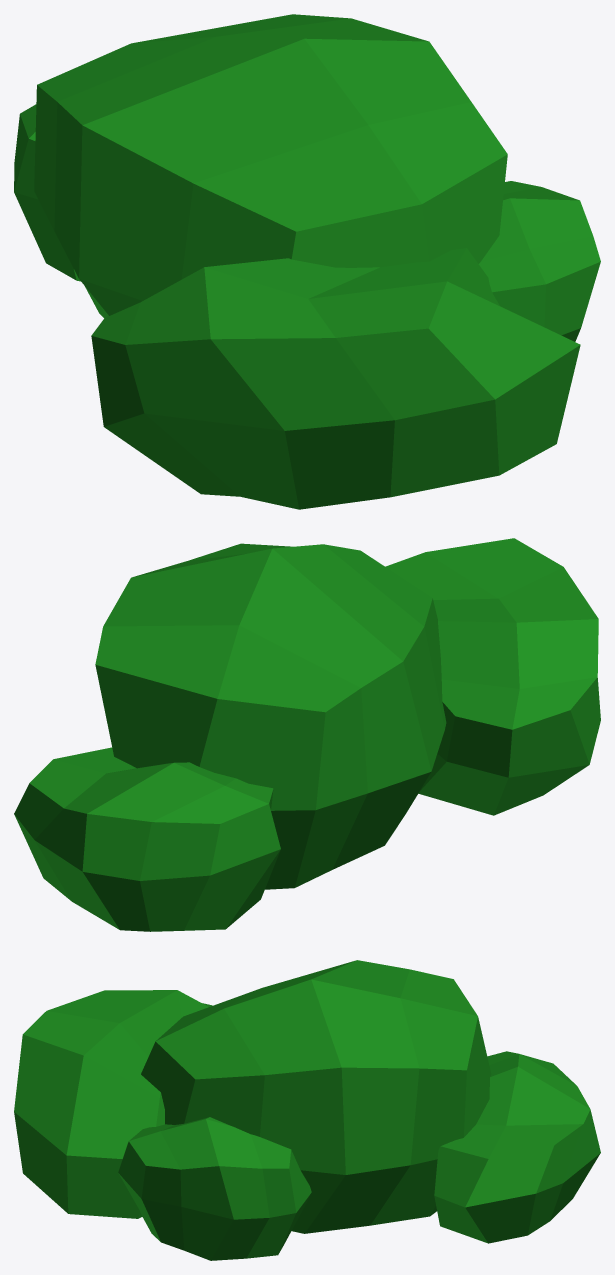
File: bush L4.glb
The picture shows the model from 3 angles, top to bottom: view 1: azimuth 30°, elevation 25°; view 2: azimuth 150°, elevation 25°; view 3: azimuth 270°, elevation 25°; orthographic projection. The views are drawn at different scales.
Parts seen in each view (by area): view 1: Cube.001; view 2: Cube.001; view 3: Cube.001.
Part boxes in pixels (x1=…): Cube.001: x1=14, y1=14, x2=600, y2=509; Cube.001: x1=14, y1=538, x2=600, y2=931; Cube.001: x1=14, y1=960, x2=600, y2=1260.
Size of the model in its own units: 4.34 by 2.82 by 6.26.
